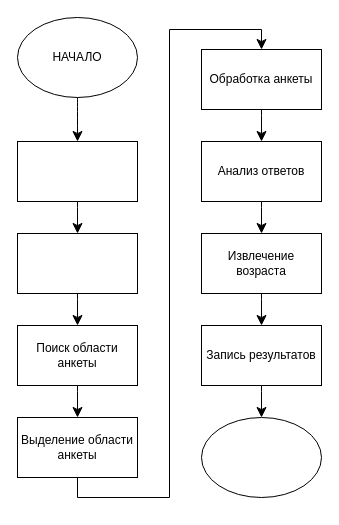
This 339x525 diagram has some shape labels left out. Each missing label, with the box of its shape:
Загрузка изображения: (16, 140, 138, 202)
КОНЕЦ: (200, 416, 322, 498)
Препроцессинг изображения: (16, 232, 138, 294)
